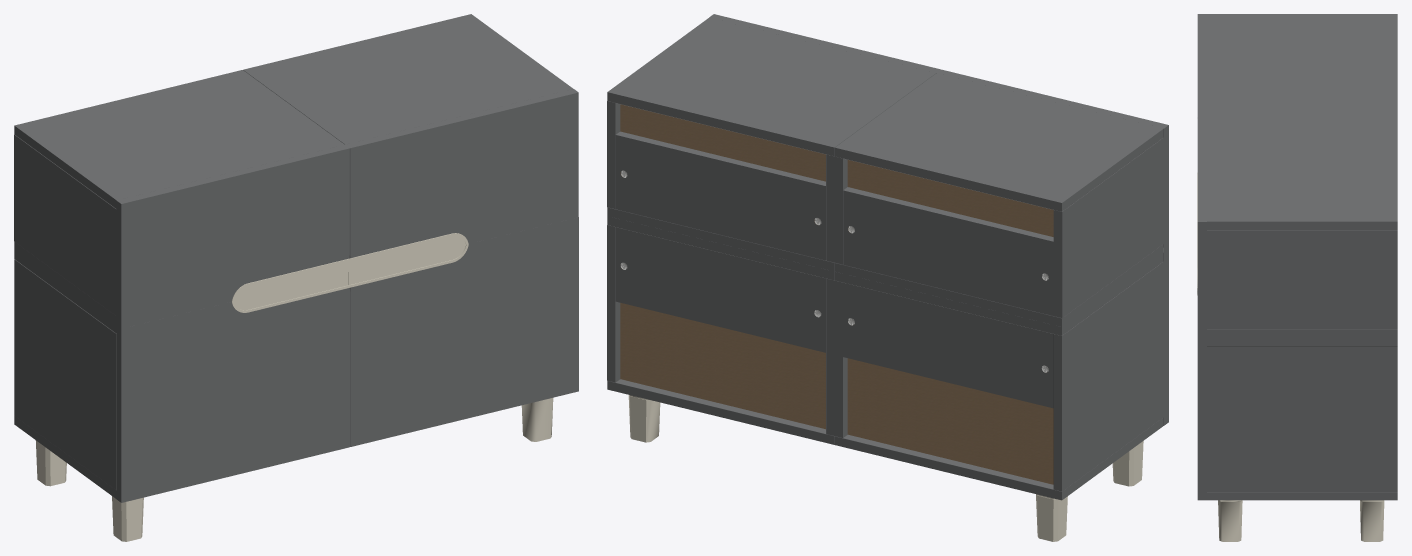
3 views of the same model, side by side, from view 1: azimuth 30°, elevation 25°; view 2: azimuth 150°, elevation 25°; view 3: azimuth 270°, elevation 25° (orthographic). The views are drawn at different scales.
Visible parts, largest first — view 1: group_0.094, group_0.148, group_0.144, group_0.146, group_0.114, group_0.147, group_0.149, group_0.145, group_0.143, group_0.015; view 2: group_0.094, group_0.144, group_0.150, group_0.148, group_0.146, group_0.114, group_0.015; view 3: group_0.144, group_0.146, group_0.094, group_0.015.
Part boxes in pixels (x1,y1,x2,y2): group_0.094: (14, 70, 349, 328); group_0.148: (14, 250, 349, 502); group_0.144: (243, 14, 578, 258); group_0.146: (350, 217, 578, 446); group_0.114: (35, 440, 143, 541); group_0.147: (348, 243, 468, 287); group_0.149: (232, 272, 350, 312); group_0.145: (348, 233, 468, 271); group_0.143: (231, 258, 349, 301); group_0.015: (521, 398, 553, 441); group_0.094: (834, 69, 1168, 326); group_0.144: (607, 14, 940, 271); group_0.150: (620, 104, 1053, 484); group_0.148: (834, 249, 1168, 500); group_0.146: (607, 216, 834, 444); group_0.114: (1036, 441, 1143, 541); group_0.015: (628, 395, 660, 442); group_0.144: (1197, 118, 1397, 337); group_0.146: (1197, 338, 1397, 500); group_0.094: (1197, 14, 1397, 117); group_0.015: (1218, 500, 1384, 541).
Size of the model in its own units: 0.9602 by 0.7028 by 0.391.
6 materials, 1 textured.
